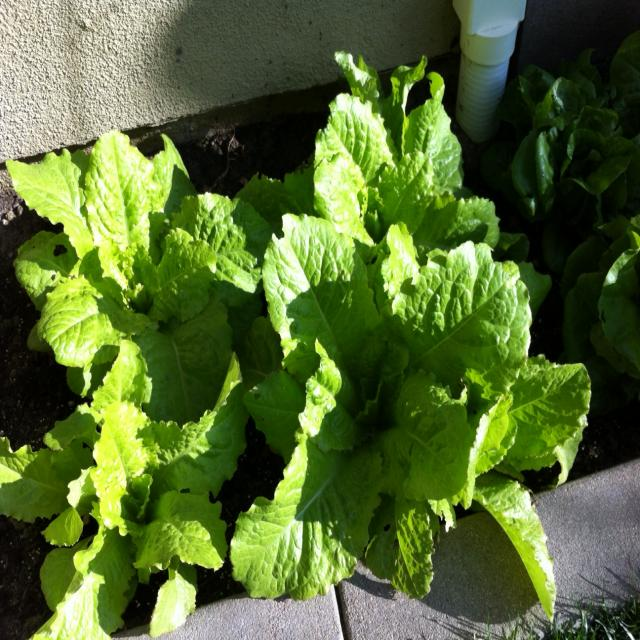Lettuce head: (257, 225, 560, 525), (34, 147, 263, 404), (36, 364, 242, 620)
